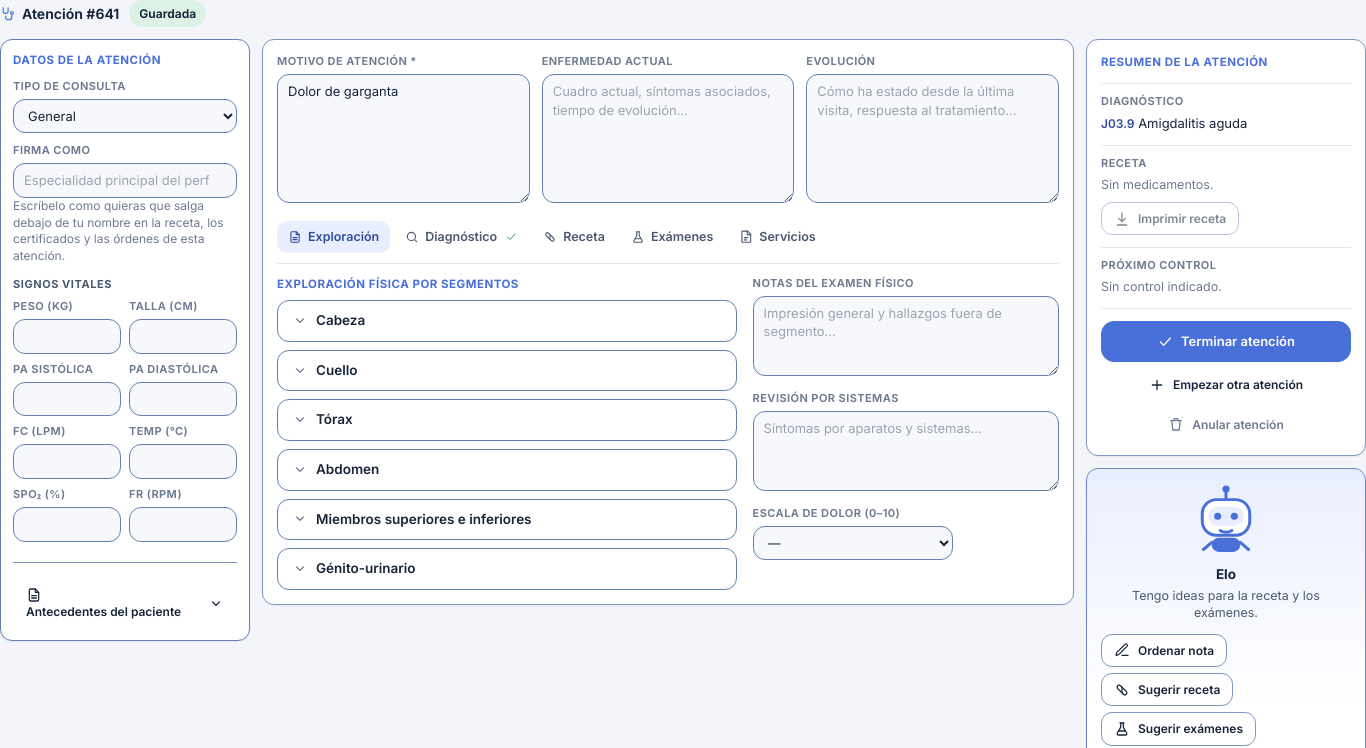
EncounterSection — Elo › proposed exams fill the order, and the doctor still generates it
The image size is (1366, 748).
Check: the text "Atención #641" is shown, box [0, 4, 119, 24]
Click the button "Sugerir exámenes".
click(1178, 729)  # box [1101, 712, 1256, 746]
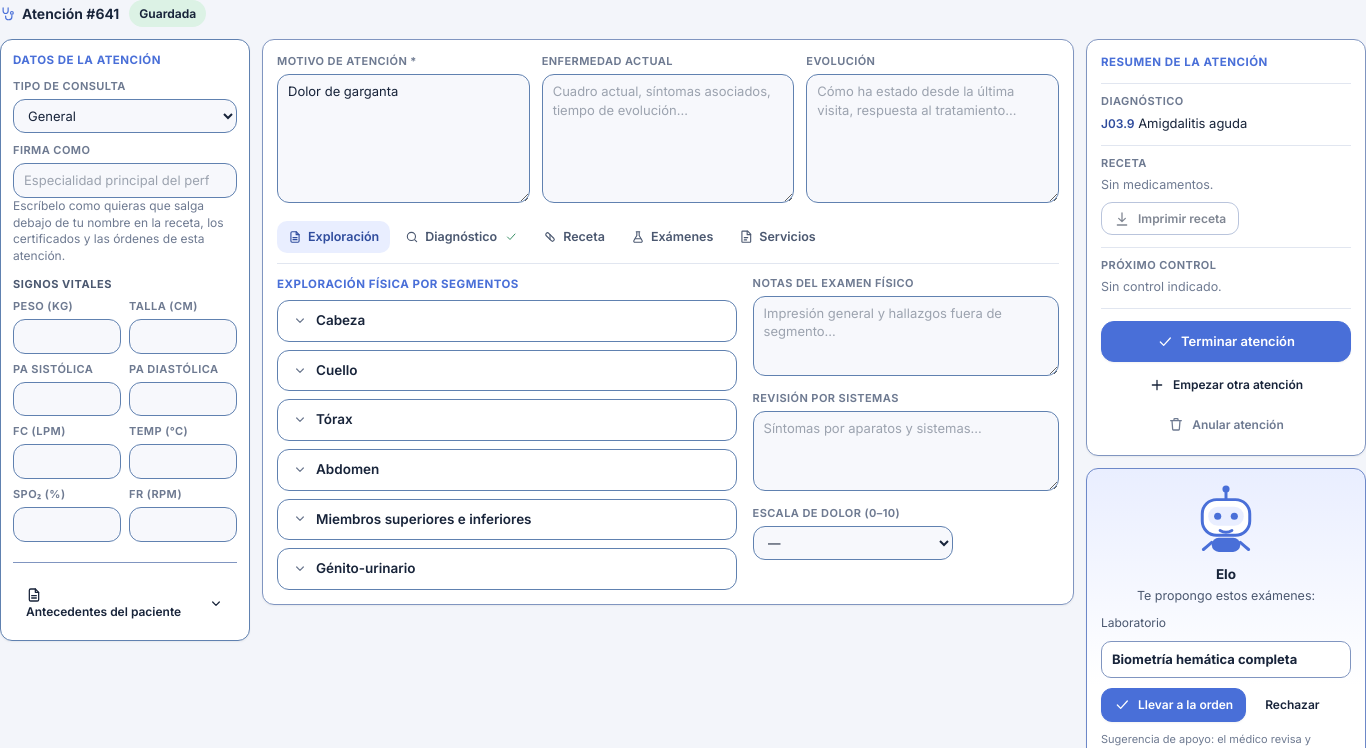
Click the button "Llevar a la orden".
click(1174, 705)  # box [1101, 688, 1246, 722]
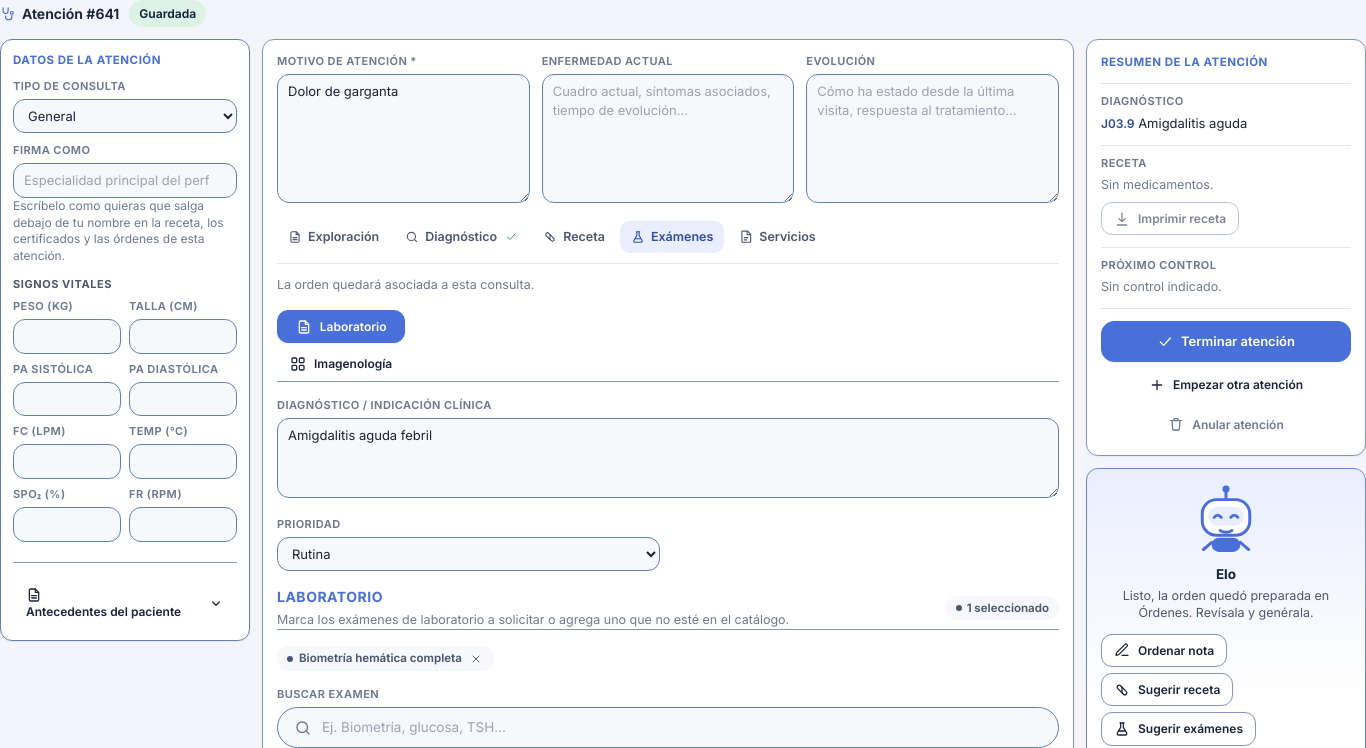
Check: the text "Biometría hemática completa" is shown, box [277, 646, 494, 671]
Check: the text box showing "Amigdalitis aguda febril" is shown, box [277, 418, 1059, 498]
